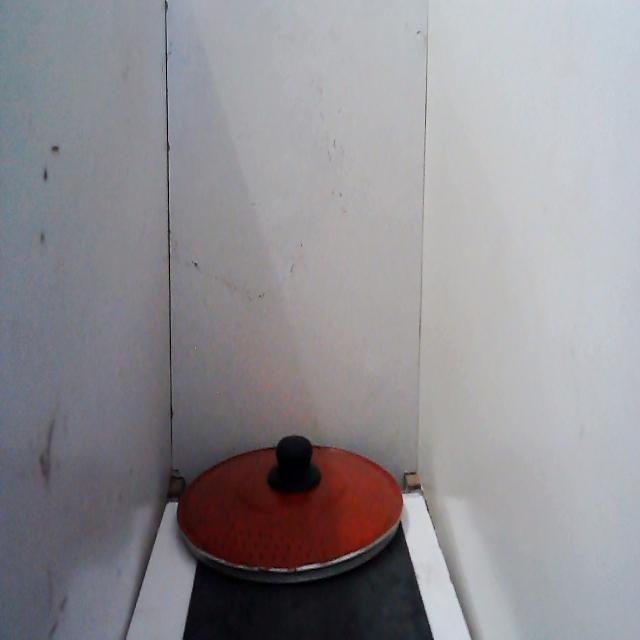metal: (173, 421, 409, 595)
